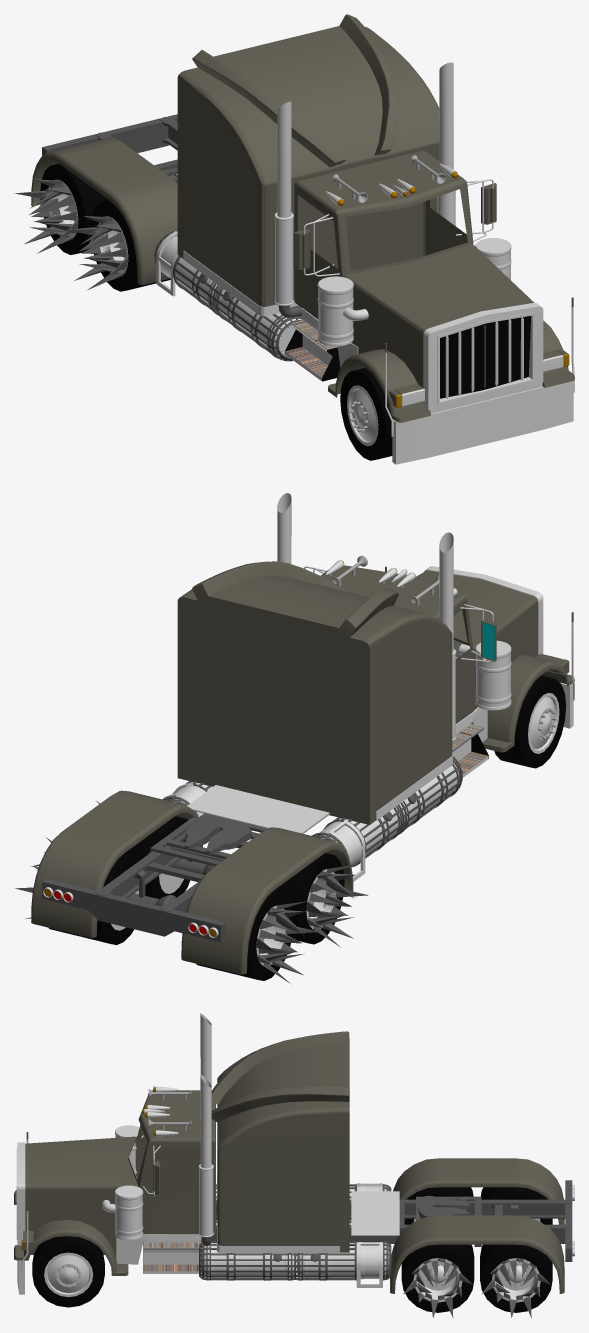
File: Semi.fbx
The picture shows the model from 3 angles, top to bottom: view 1: azimuth 30°, elevation 25°; view 2: azimuth 150°, elevation 25°; view 3: azimuth 270°, elevation 25°; orthographic projection. The views are drawn at different scales.
Visible parts, largest first — view 1: Semi, polySurface522, polySurface521, polySurface510; view 2: Semi, polySurface521, polySurface510, polySurface522, polySurface356, polySurface163; view 3: Semi, polySurface356, polySurface322, polySurface163, polySurface522, polySurface521.
Part boxes in pixels (x1,y1,x2,y2): Semi: [31, 14, 574, 464]; polySurface522: [14, 163, 108, 254]; polySurface521: [65, 200, 170, 291]; polySurface510: [340, 368, 392, 460]; Semi: [31, 493, 574, 974]; polySurface521: [275, 853, 368, 946]; polySurface510: [494, 675, 566, 768]; polySurface522: [196, 889, 318, 984]; polySurface356: [96, 801, 190, 898]; polySurface163: [15, 837, 146, 944]; Semi: [14, 1013, 574, 1294]; polySurface356: [401, 1244, 474, 1317]; polySurface322: [32, 1236, 104, 1307]; polySurface163: [480, 1244, 552, 1317]; polySurface522: [480, 1187, 552, 1224]; polySurface521: [404, 1187, 473, 1224].
Size of the model in its own units: 4.09 by 4.12 by 9.16.
